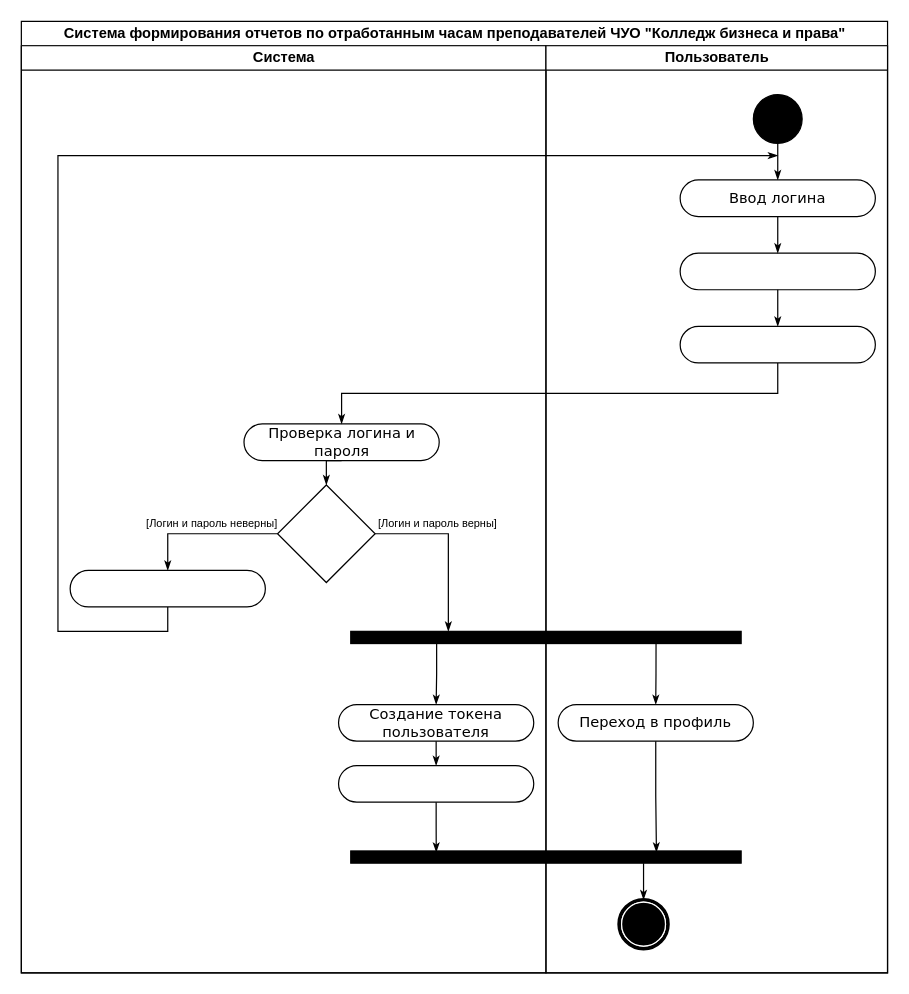
Some shapes in this 909 by 994 pixel diagram are drawn without their labels. The box of each missing label's shape, as (x1, y1, x2, y2) in pixels:
Ввод пароля: (679, 252, 875, 290)
Вывод ошиби авторизации: (69, 569, 265, 607)
Запись токена в cookie файл: (337, 764, 534, 802)
Нажатие на кнопку "Авторизоваться: (679, 325, 875, 363)
